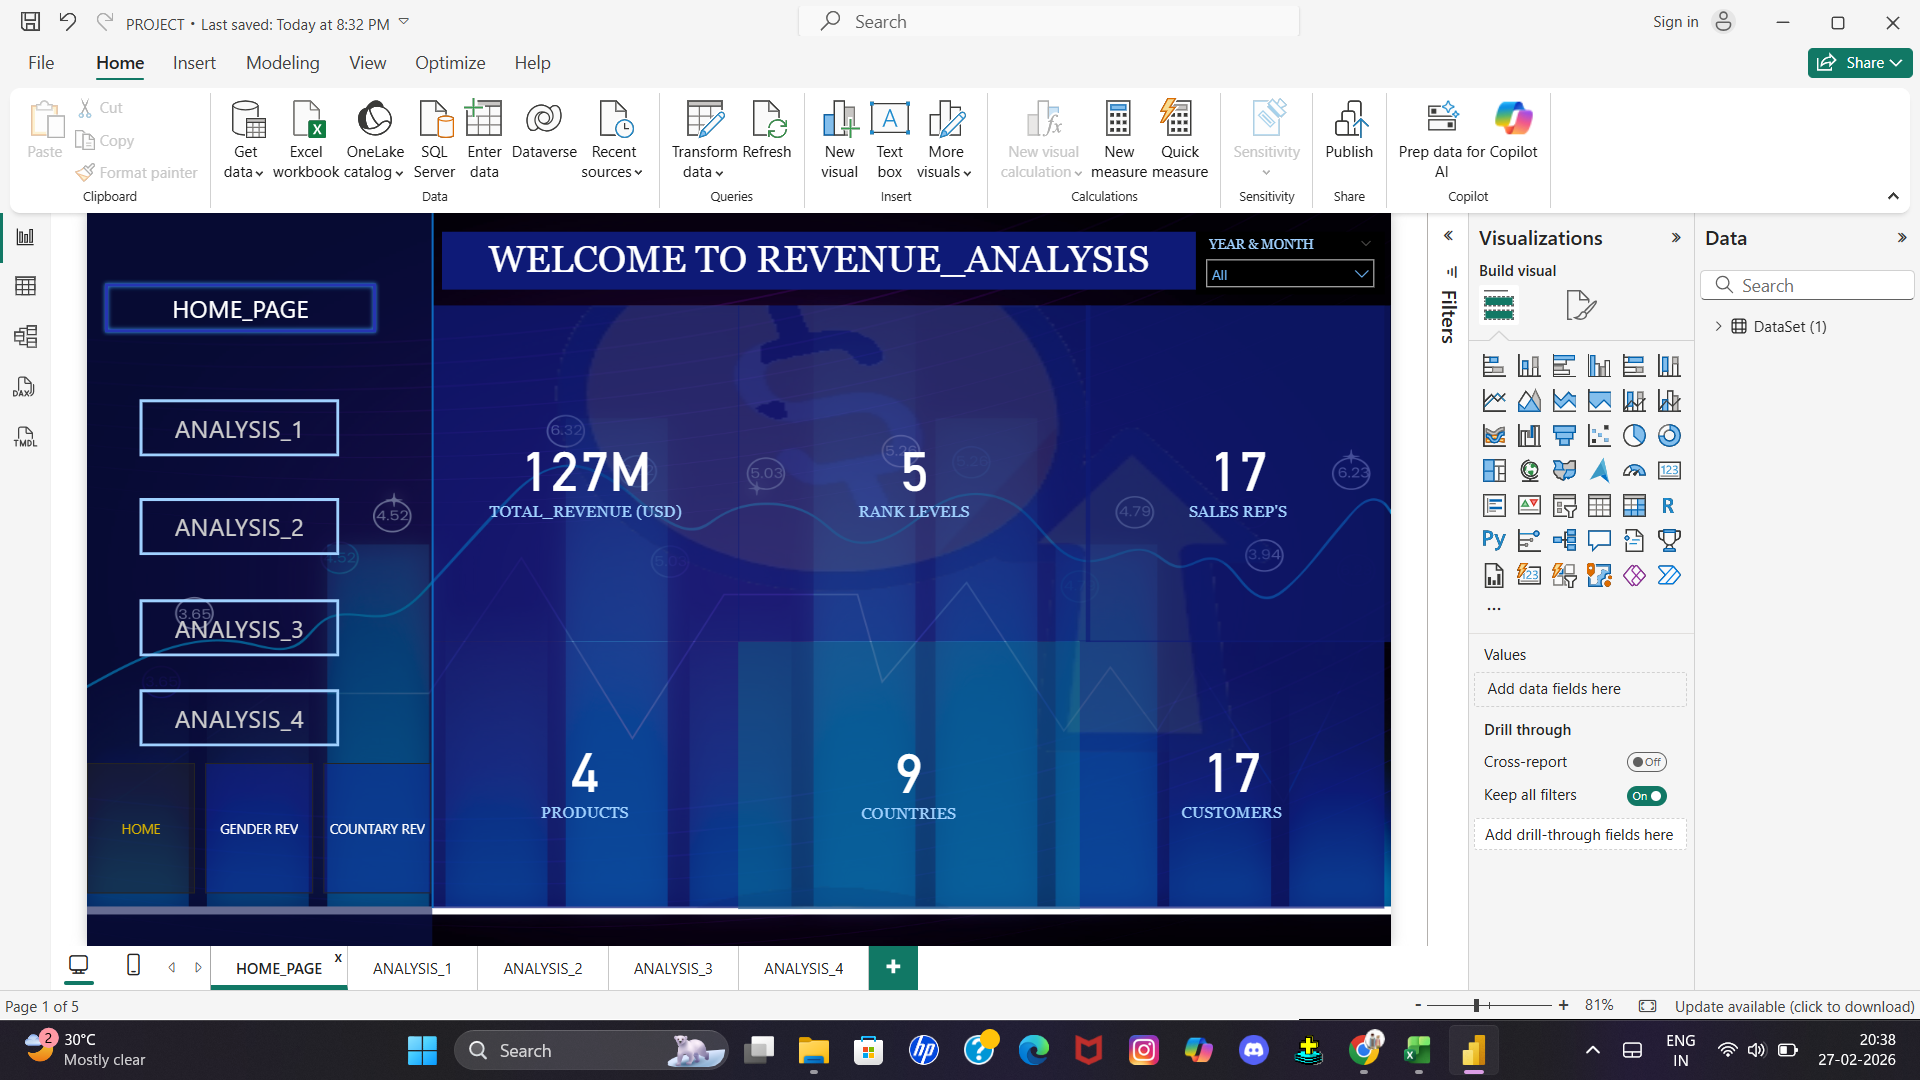

The dashboard page shown, as its layout file describes it:
{"tool":"powerbi","page":{"name":"HOME_PAGE","canvas":[1280,720],"ordinal":0},"visuals":[{"type":"shape","box":[0,0,338.9,720.4],"z":0},{"type":"actionButton","box":[13.7,64.5,274.4,56.3],"z":1000},{"type":"actionButton","box":[52.1,378.7,196.2,56.3],"z":2000},{"type":"actionButton","box":[52.1,279.9,196.2,56.3],"z":3000},{"type":"actionButton","box":[52.1,467.9,196.2,56.3],"z":4000},{"type":"actionButton","box":[52.1,182.5,196.2,56.3],"z":5000},{"type":"actionButton","box":[339.5,90.4,933.6,591.3],"z":6000},{"type":"card","fields":{"Values":["Count(DataSet (1).Name)"]},"box":[973.9,420.2,299.1,263],"z":7000},{"type":"card","fields":{"Values":["Count(DataSet (1).Products)"]},"box":[338.7,420.9,300.6,261.4],"z":8000},{"type":"card","fields":{"Values":["Count(DataSet (1).Sales Reps)"]},"box":[980.4,90.8,299.4,330.1],"z":9000},{"type":"card","fields":{"Values":["Count(DataSet (1).Country)"]},"box":[639.3,420.9,335,262.6],"z":10000},{"type":"slicer","fields":{"Values":["DataSet (1).Years","DataSet (1).Month"]},"box":[1088.3,18.4,185.3,61.4],"z":11000},{"type":"textbox","box":[348.5,18.4,739.9,56.4],"z":12000},{"type":"card","fields":{"Values":["Count(DataSet (1).Rank Levels)"]},"box":[639.1,91.1,345.6,329.7],"z":13000},{"type":"bookmarkNavigator","box":[0,539.4,338.4,128.7],"z":20000},{"type":"card","fields":{"Values":["Sum(DataSet (1).Revenue (USD))"]},"box":[338.1,90.4,301.9,329.7],"z":21000},{"type":"shape","box":[122.7,0,433.1,682.2],"z":22000}]}

Visuals, with their boxes on the page's 1280x720 design canvas (x1, y1, x2, y2). These are canvas units, not pixel positions in the 1920x1080 screenshot, which may show the page scaled, cropped or inside an application window:
shape: select_region(0, 0, 339, 720)
actionButton: select_region(14, 64, 288, 121)
actionButton: select_region(52, 379, 248, 435)
actionButton: select_region(52, 280, 248, 336)
actionButton: select_region(52, 468, 248, 524)
actionButton: select_region(52, 182, 248, 239)
actionButton: select_region(340, 90, 1273, 682)
card - Count(DataSet (1).Name): select_region(974, 420, 1273, 683)
card - Count(DataSet (1).Products): select_region(339, 421, 639, 682)
card - Count(DataSet (1).Sales Reps): select_region(980, 91, 1280, 421)
card - Count(DataSet (1).Country): select_region(639, 421, 974, 684)
slicer - DataSet (1).Years x DataSet (1).Month: select_region(1088, 18, 1274, 80)
textbox: select_region(348, 18, 1088, 75)
card - Count(DataSet (1).Rank Levels): select_region(639, 91, 985, 421)
bookmarkNavigator: select_region(0, 539, 338, 668)
card - Sum(DataSet (1).Revenue (USD)): select_region(338, 90, 640, 420)
shape: select_region(123, 0, 556, 682)
